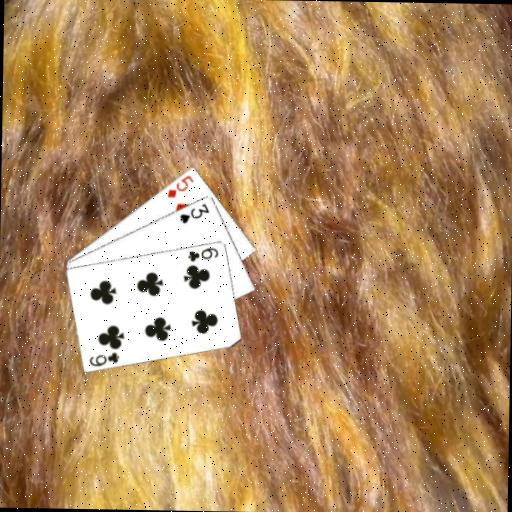3S: (177, 200, 211, 226)
5D: (164, 171, 196, 199)
6C: (86, 349, 121, 369), (185, 244, 220, 263)
